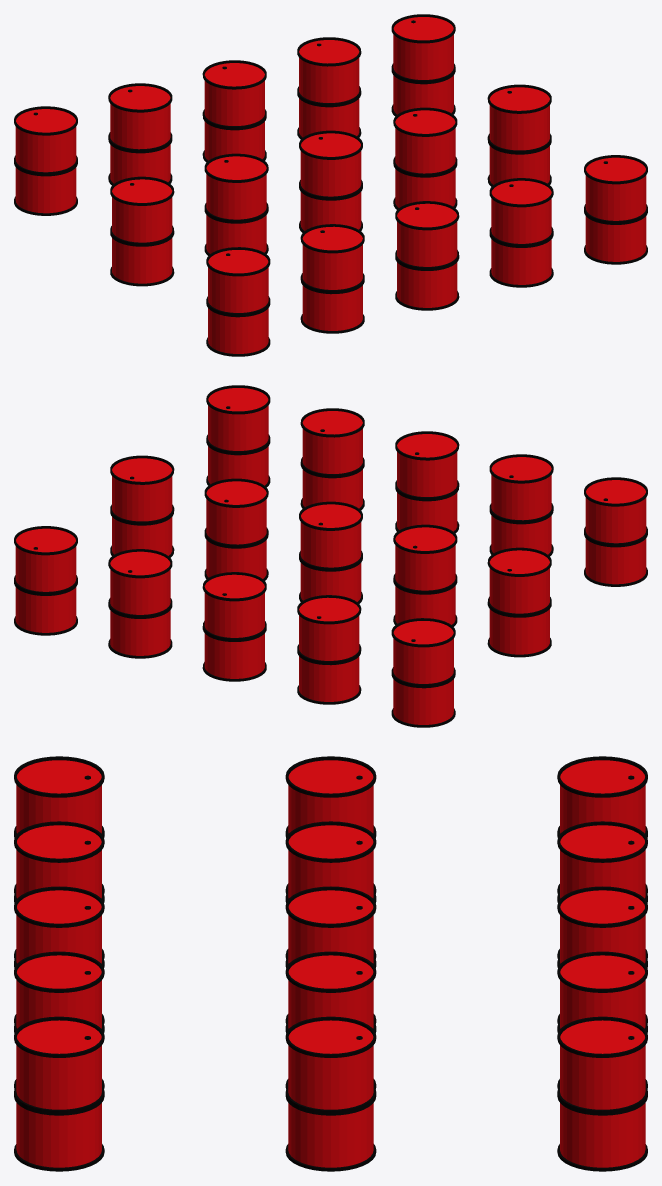
The model's file is MetalBarrel.fbx.
The picture shows the model from 3 angles, top to bottom: view 1: azimuth 30°, elevation 25°; view 2: azimuth 150°, elevation 25°; view 3: azimuth 270°, elevation 25°; orthographic projection. The views are drawn at different scales.
Parts seen in each view (by area): view 1: Cylinder; view 2: Cylinder; view 3: Cylinder.
Part boxes in pixels (x1=…): Cylinder: x1=14, y1=14, x2=647, y2=356; Cylinder: x1=14, y1=385, x2=647, y2=727; Cylinder: x1=14, y1=756, x2=647, y2=1171.
Size of the model in its own units: 662 by 121 by 594.
